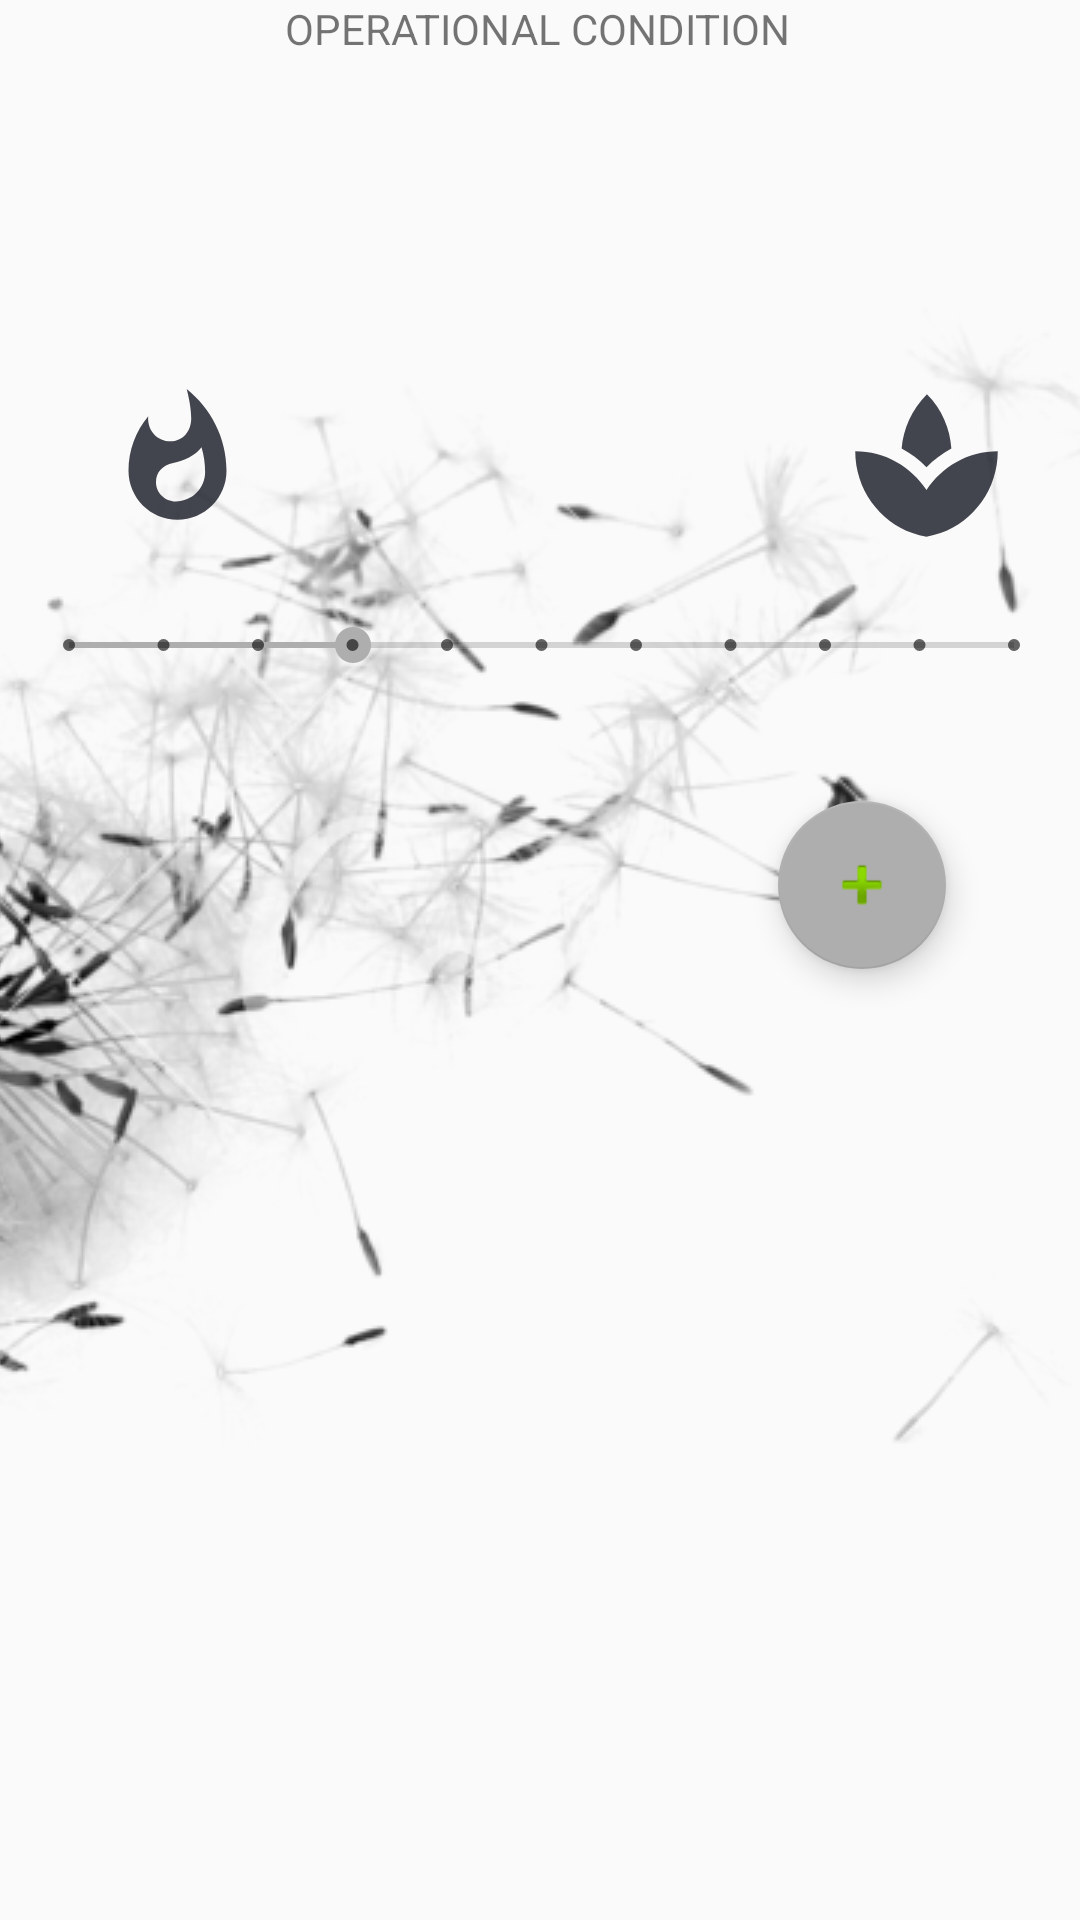

Icon bounding boxes for this 1080*1920 phone screenshot, format (x1, y1, x2, y2):
add: (778, 801, 946, 969)
relax: (855, 394, 998, 537)
stress: (128, 389, 261, 532)
